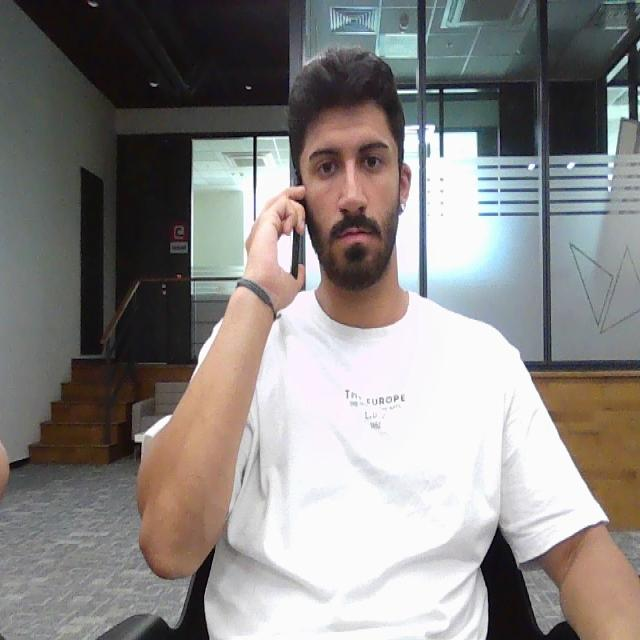phone: (290, 169, 304, 284)
